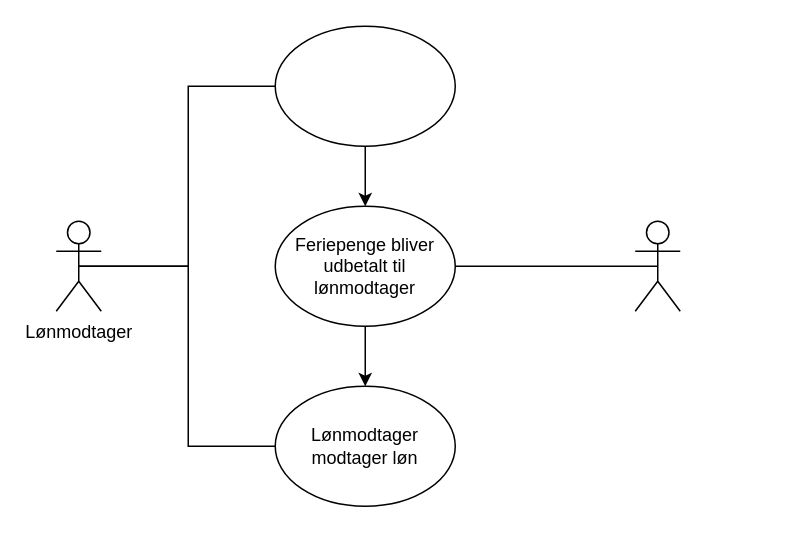
Some shapes in this 806 by 533 pixel diagram are drawn without their labels. Each missing label, with the centre of its shape:
"Lønmodtager bestiller feriepenge" goes at (364,85).
"Lønmodtagerens arbejdeplads" goes at (657,265).
